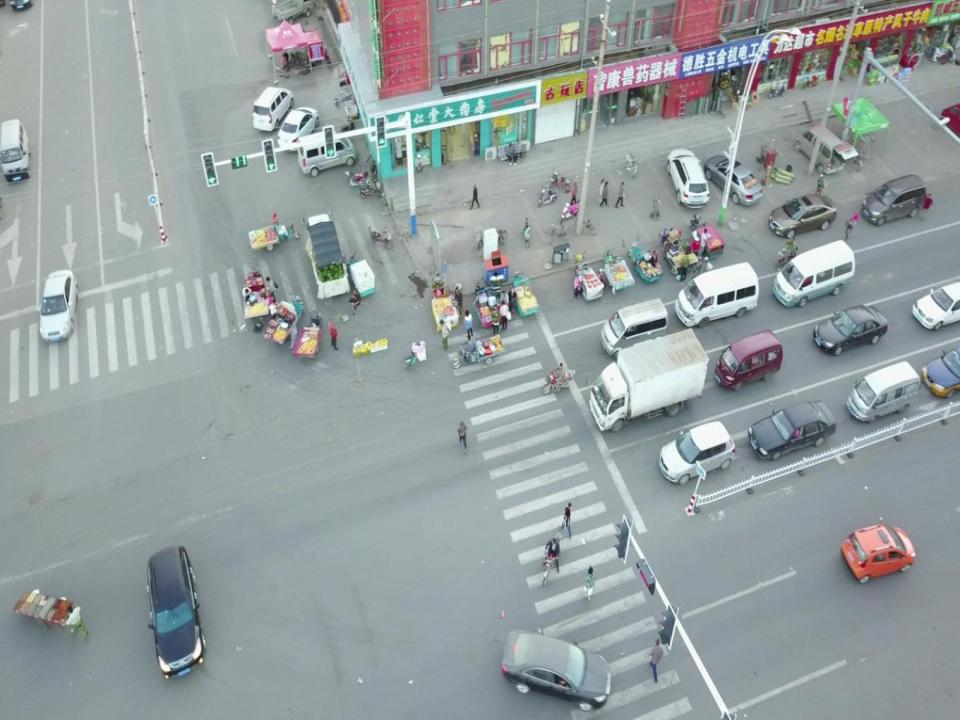car: (502, 628, 612, 712), (145, 543, 207, 680), (748, 398, 837, 459), (658, 420, 735, 484), (840, 524, 916, 584), (813, 304, 889, 356), (37, 268, 79, 343), (703, 154, 763, 206), (769, 193, 837, 238), (667, 148, 710, 208), (912, 280, 960, 330), (922, 346, 960, 398), (277, 106, 319, 152)
truck: (588, 327, 709, 433), (300, 209, 349, 298)
van: (674, 262, 760, 330), (772, 240, 855, 308), (846, 360, 920, 423), (713, 328, 783, 390), (600, 298, 668, 360), (860, 174, 925, 225), (795, 124, 859, 175), (297, 129, 356, 178), (252, 86, 294, 132), (0, 118, 30, 182)
